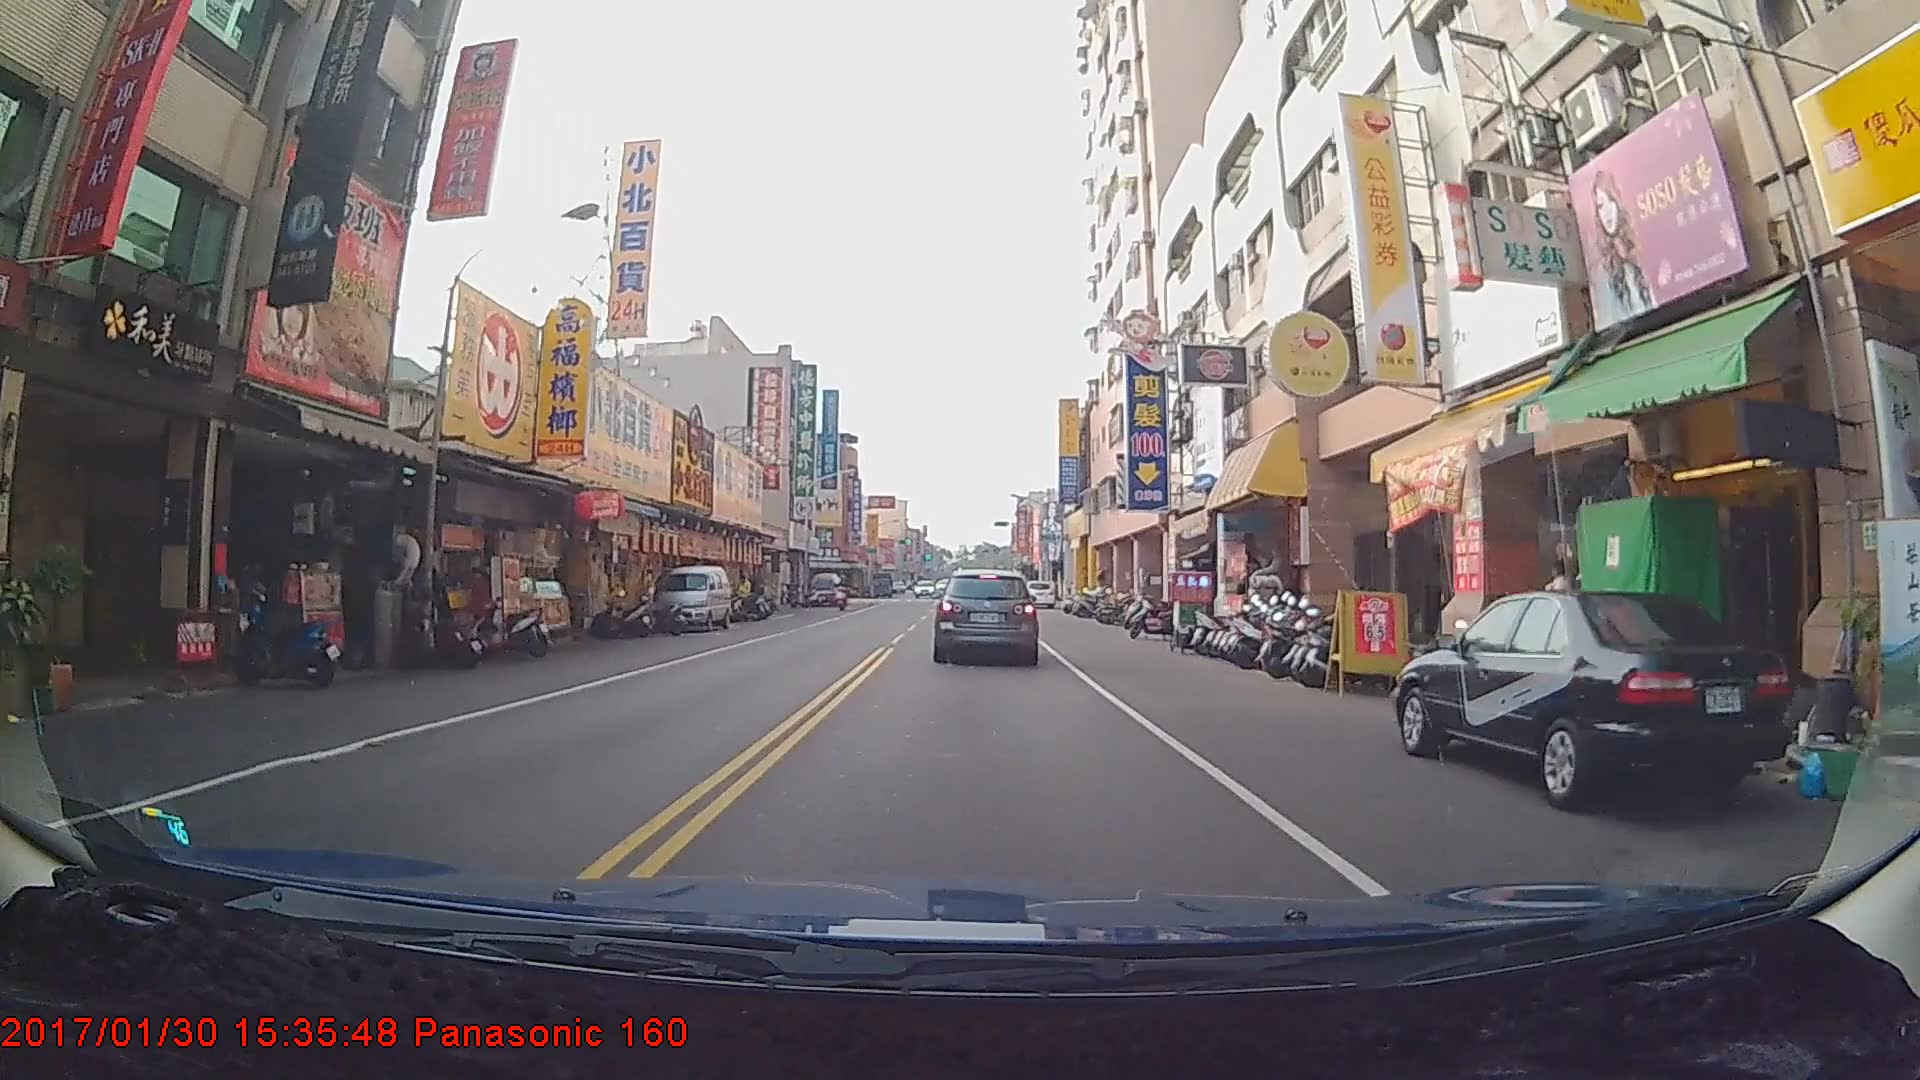vehicle: (1395, 589, 1793, 816), (934, 567, 1039, 665), (653, 564, 731, 632), (806, 571, 844, 607), (1023, 579, 1056, 609)
